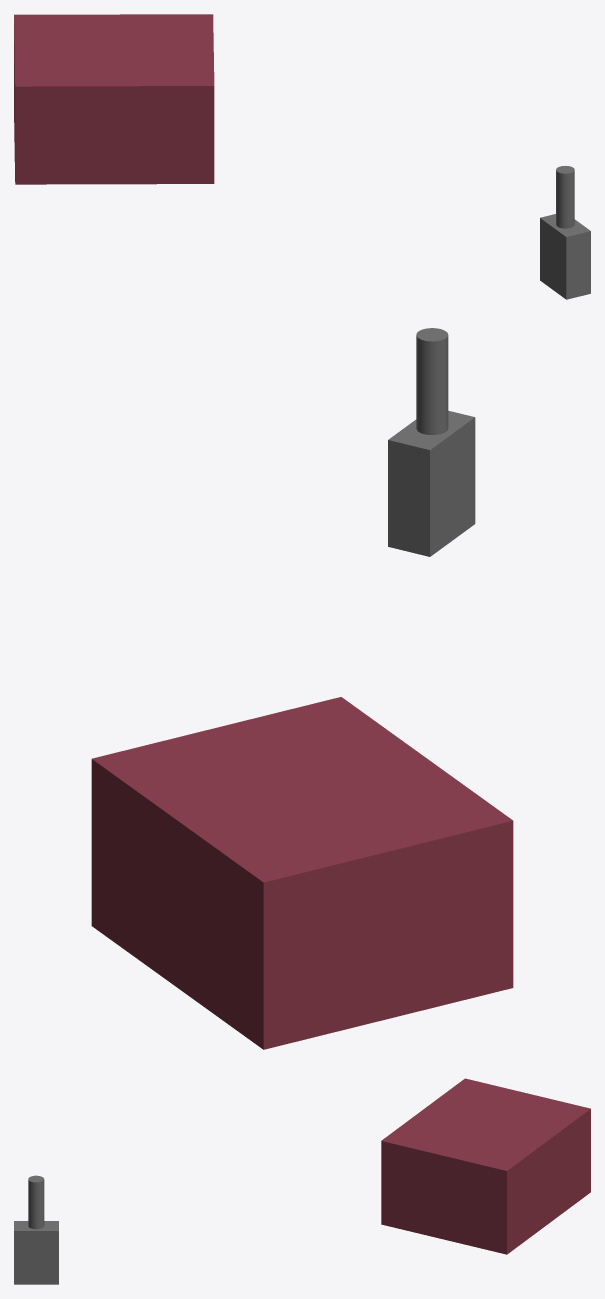
File: Garden object_2.fbx
The picture shows the model from 3 angles, top to bottom: view 1: azimuth 30°, elevation 25°; view 2: azimuth 150°, elevation 25°; view 3: azimuth 270°, elevation 25°; orthographic projection. The views are drawn at different scales.
Visible parts, largest first — view 1: 土袋; view 2: 土袋; view 3: 土袋.
Boxes of the visible parts, bbox=[...] form: 土袋: bbox=[14, 14, 590, 299]; 土袋: bbox=[91, 328, 513, 1049]; 土袋: bbox=[14, 1078, 590, 1284].
Bounding box in the file's own units: 6.08 × 2.35 × 11.44.
